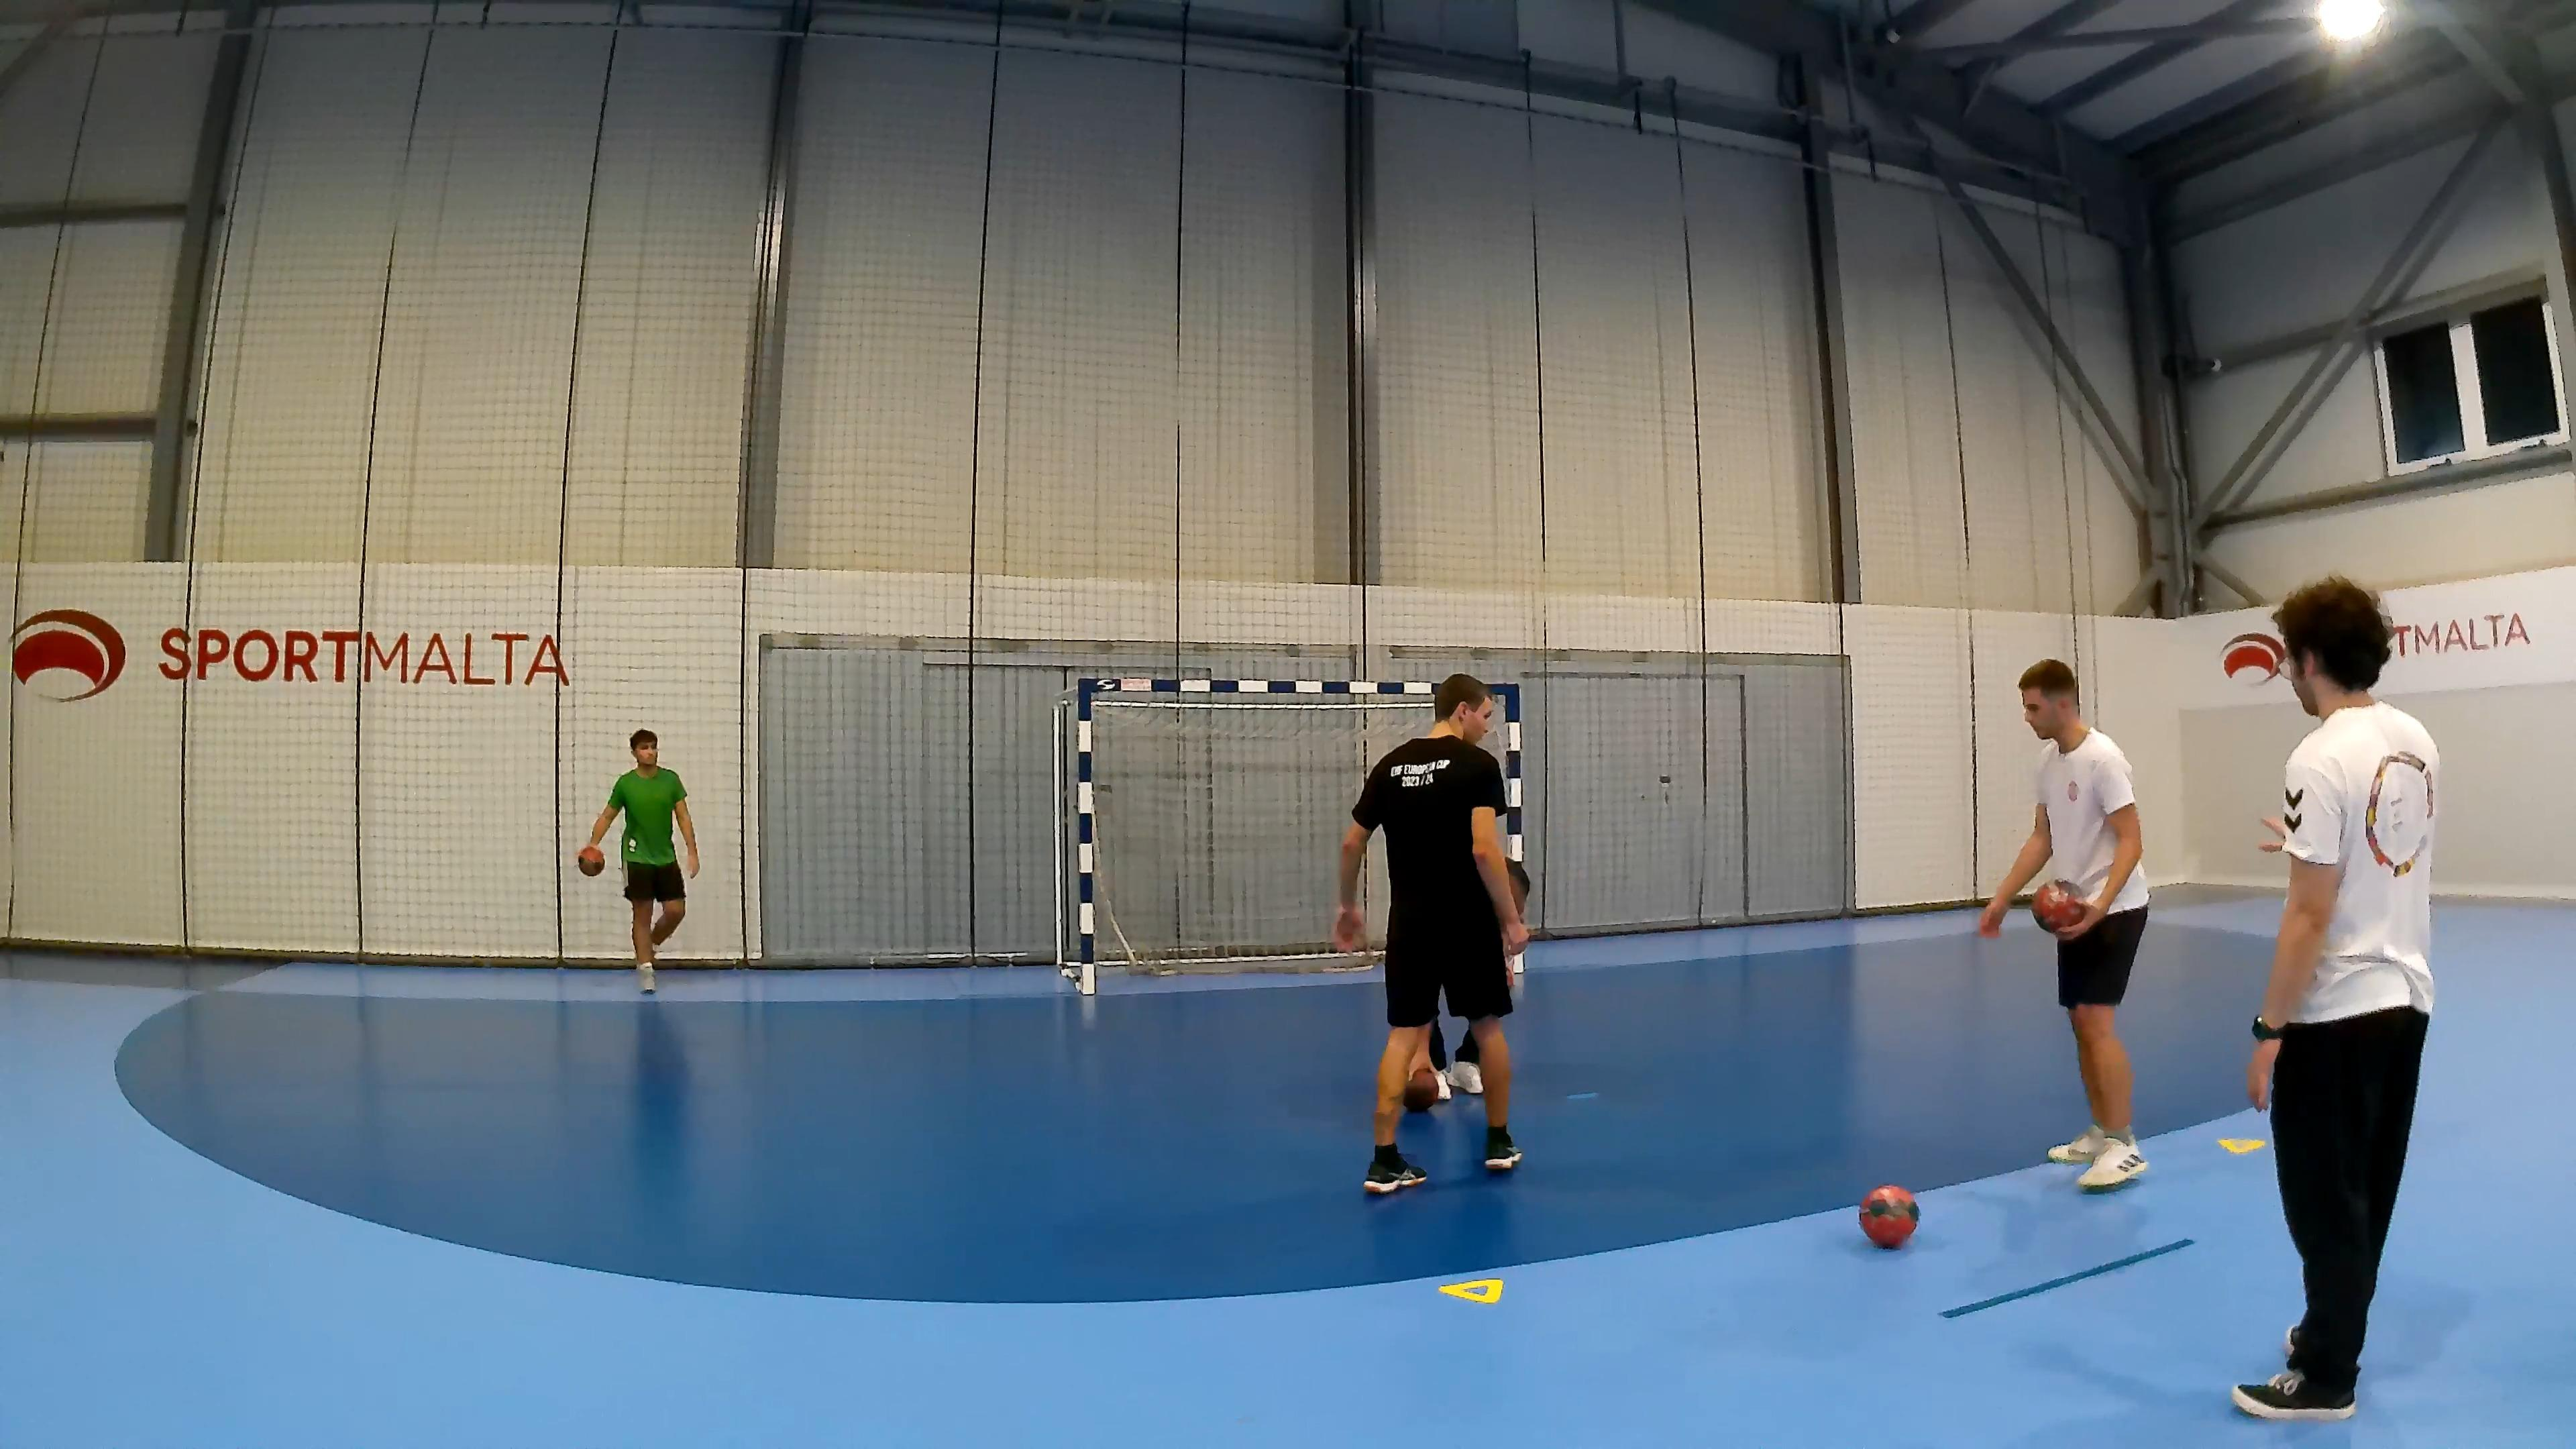handball: (1858, 1182, 1918, 1247), (2031, 879, 2082, 932), (1391, 1076, 1447, 1111), (579, 840, 610, 886)
